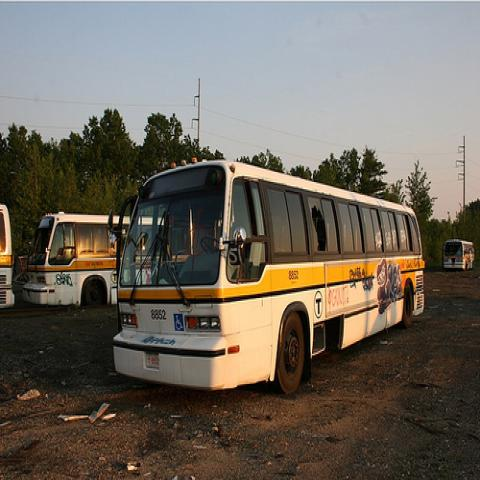bus: (111, 156, 425, 390), (22, 213, 118, 305), (0, 203, 14, 311), (444, 240, 475, 272)
